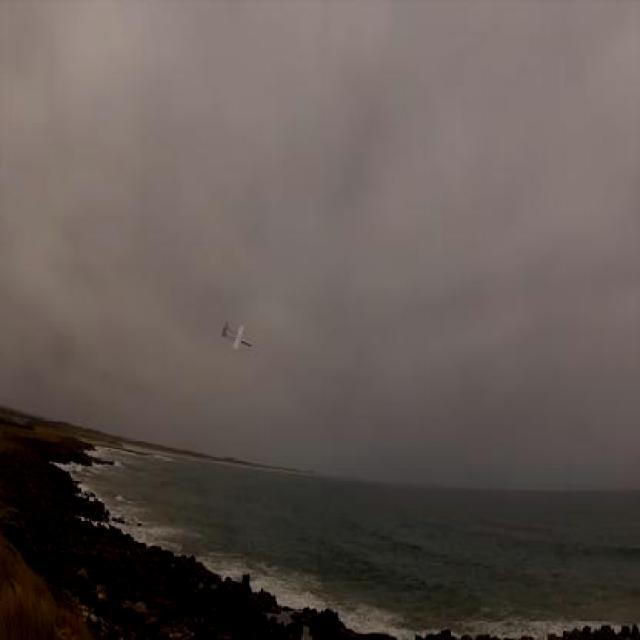iha: (213, 318, 262, 360)
